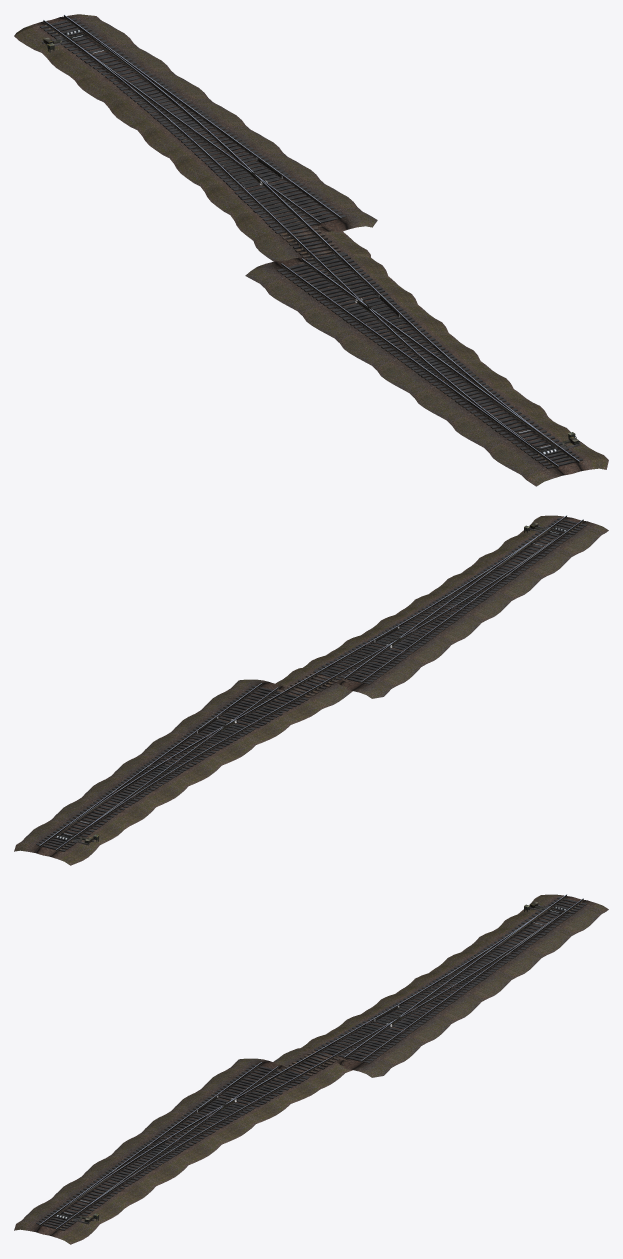
File: 2track2+2_5.5_der_TSM.gltf
The picture shows the model from 3 angles, top to bottom: view 1: azimuth 30°, elevation 25°; view 2: azimuth 150°, elevation 25°; view 3: azimuth 330°, elevation 25°; orthographic projection. The views are drawn at different scales.
Size of the model in its own units: 12.31 by 0.9462 by 79.86.
1 material, 1 textured.
